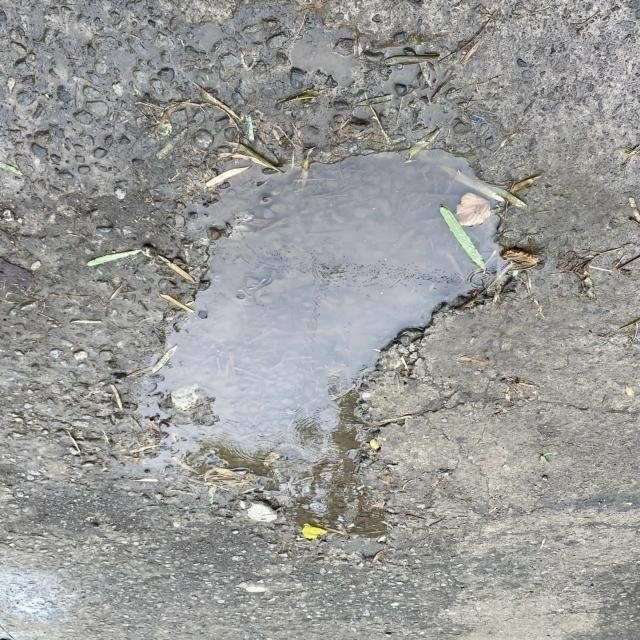pothole: (59, 72, 568, 561)
